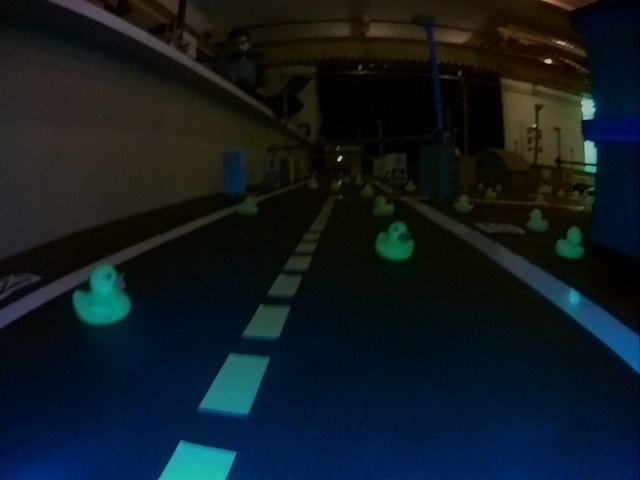Duckie: (72, 265, 130, 323), (375, 223, 415, 258), (558, 227, 585, 257), (372, 198, 396, 217), (239, 198, 260, 218), (528, 210, 547, 231), (455, 194, 473, 212)
QR code: (1, 271, 39, 299), (481, 222, 523, 235)
